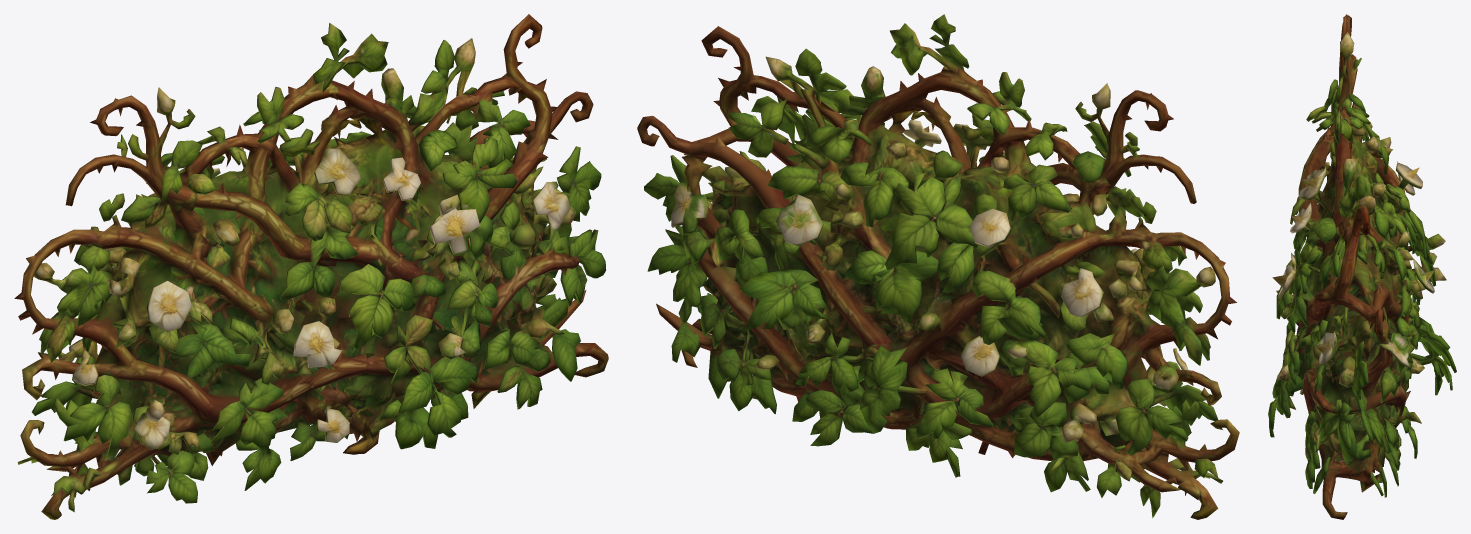
Rendered from bramble_bush.glb.
3 renders of one model, left to right at view 1: azimuth 30°, elevation 25°; view 2: azimuth 150°, elevation 25°; view 3: azimuth 270°, elevation 25°, orthographic. The views are drawn at different scales.
Visible parts, largest first — view 1: tripo_node_f83f44e0-a563-4c4d-959a-32331adaa012; view 2: tripo_node_f83f44e0-a563-4c4d-959a-32331adaa012; view 3: tripo_node_f83f44e0-a563-4c4d-959a-32331adaa012.
Part boxes in pixels (x1,y1,x2,y2): tripo_node_f83f44e0-a563-4c4d-959a-32331adaa012: (14, 14, 608, 519); tripo_node_f83f44e0-a563-4c4d-959a-32331adaa012: (637, 14, 1239, 519); tripo_node_f83f44e0-a563-4c4d-959a-32331adaa012: (1268, 14, 1456, 519).
Size of the model in its own units: 0.9786 by 0.6913 by 0.3313.
Materials: 1 (1 with a texture image).
